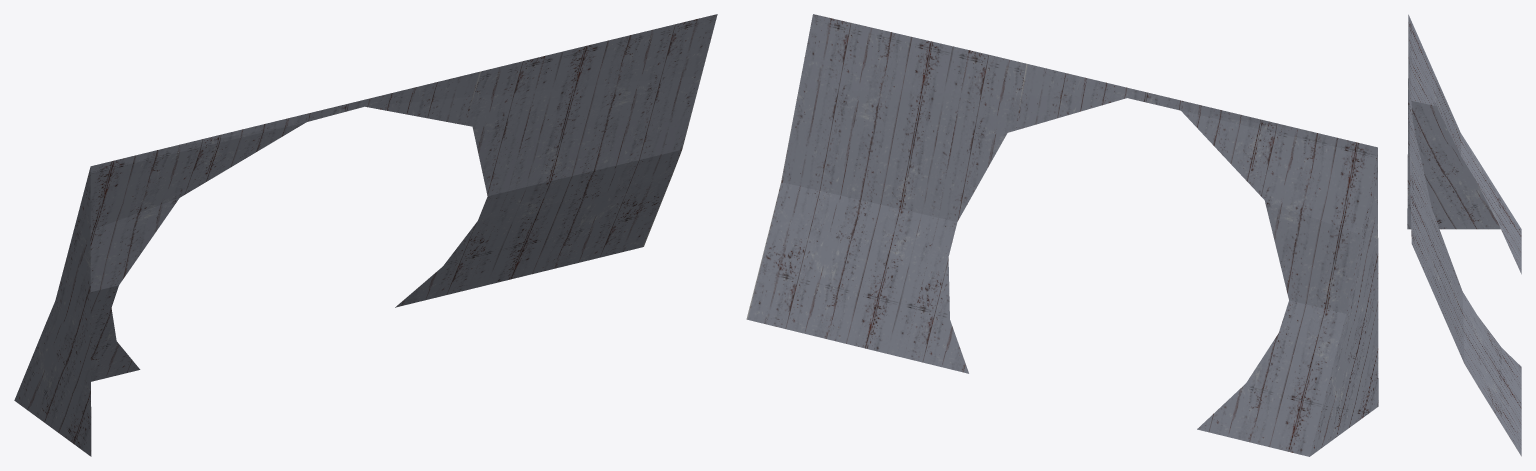
File: Tunnel4Fence.fbx
3 views of the same model, side by side, from view 1: azimuth 30°, elevation 25°; view 2: azimuth 150°, elevation 25°; view 3: azimuth 270°, elevation 25° (orthographic). The views are drawn at different scales.
Visible parts, largest first — view 1: polySurface53; view 2: polySurface53; view 3: polySurface53.
Part boxes in pixels (x1,y1,x2,y2): polySurface53: (14,14,717,456); polySurface53: (746,14,1378,456); polySurface53: (1407,14,1521,456).
Size of the model in its own units: 635 by 280 by 135.
